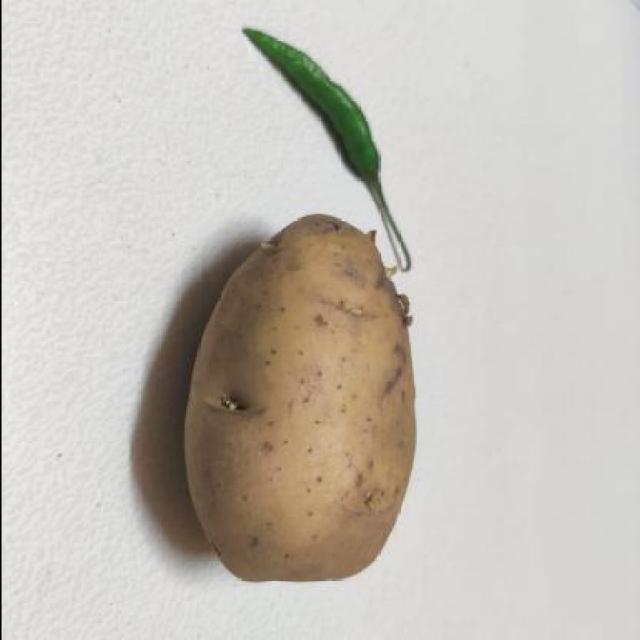Green Chili: (217, 11, 423, 204)
Potato: (180, 220, 417, 592)
